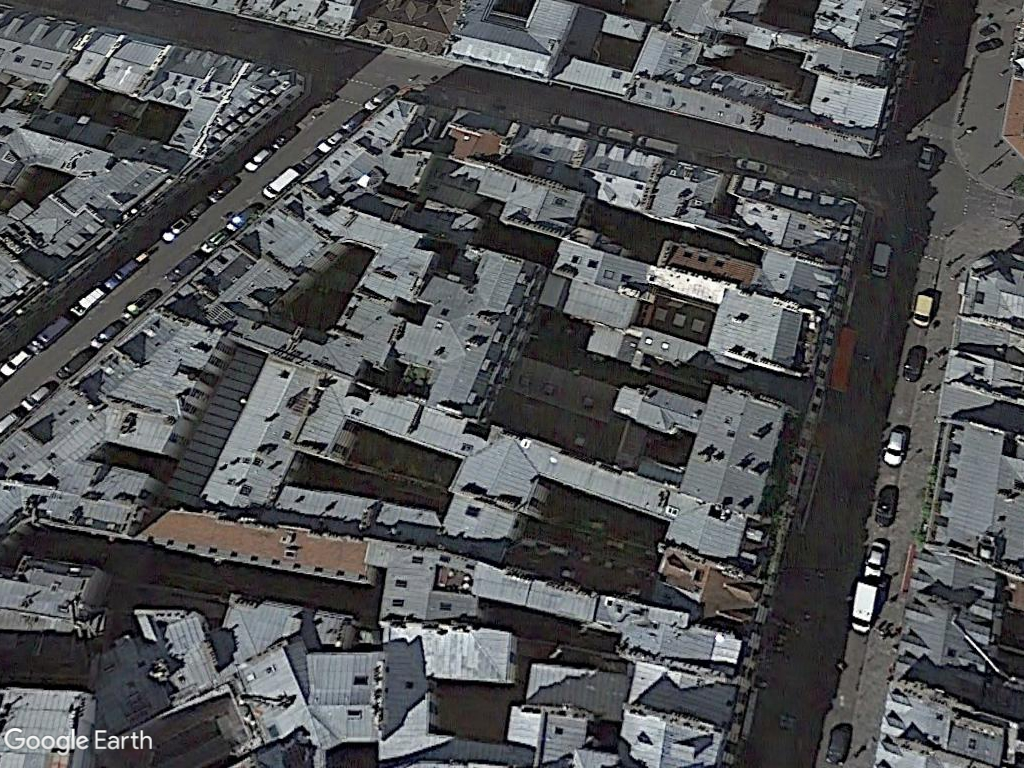car: (902, 341, 929, 384), (910, 286, 934, 329), (872, 239, 894, 279), (884, 429, 903, 467)
van: (847, 578, 881, 635)
